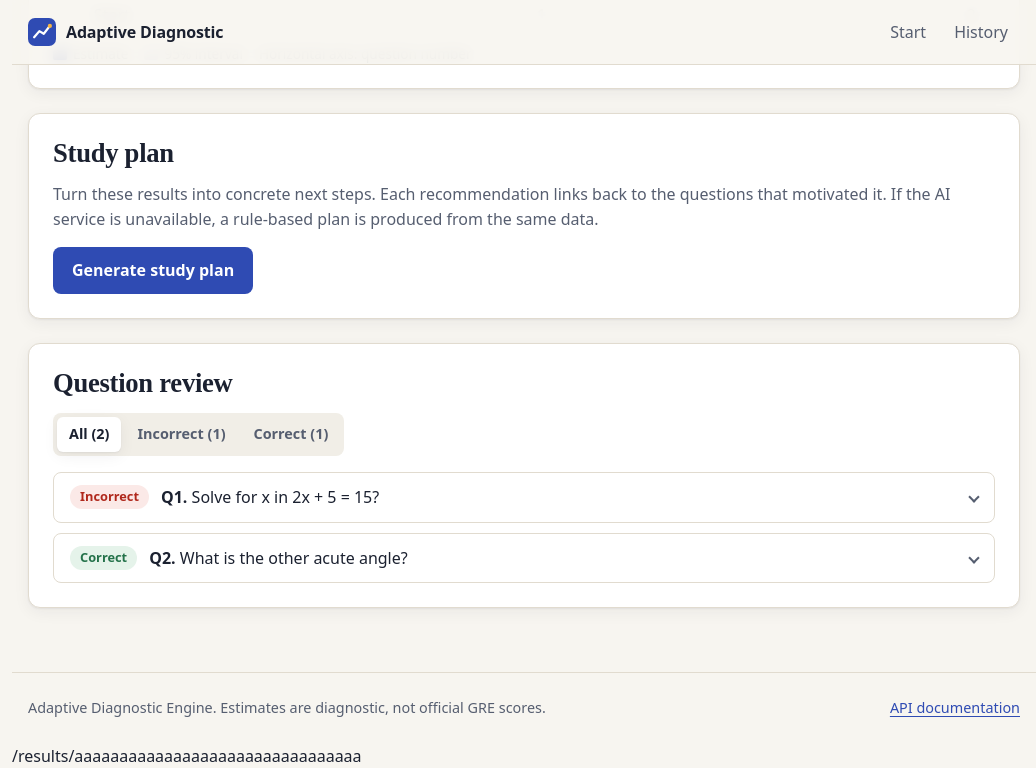
results page › filters the question review
(page scrolled)
Click the button "Correct (1)": (291, 435) [242,417,340,452]
(page scrolled)
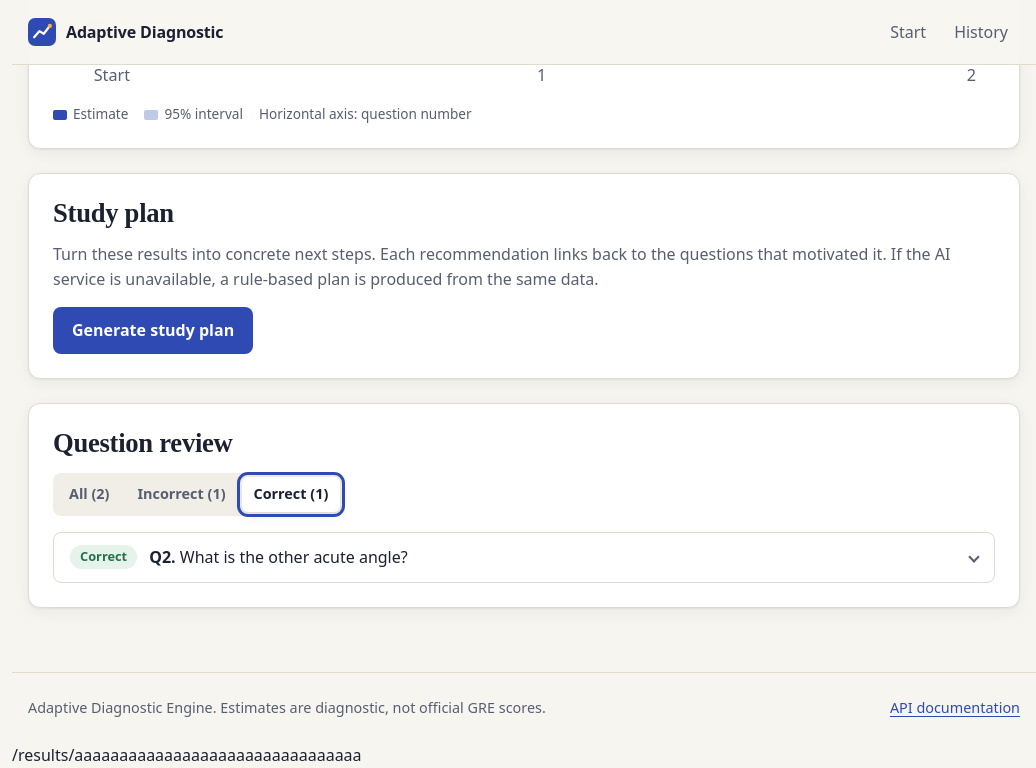
Check: the text "Q2. What is the other acute angle?" is shown, box [149,546,408,568]
Check: no headings "Solve for x" are shown
Click the button "Incorrect (1)": (182, 495) [126,477,238,512]
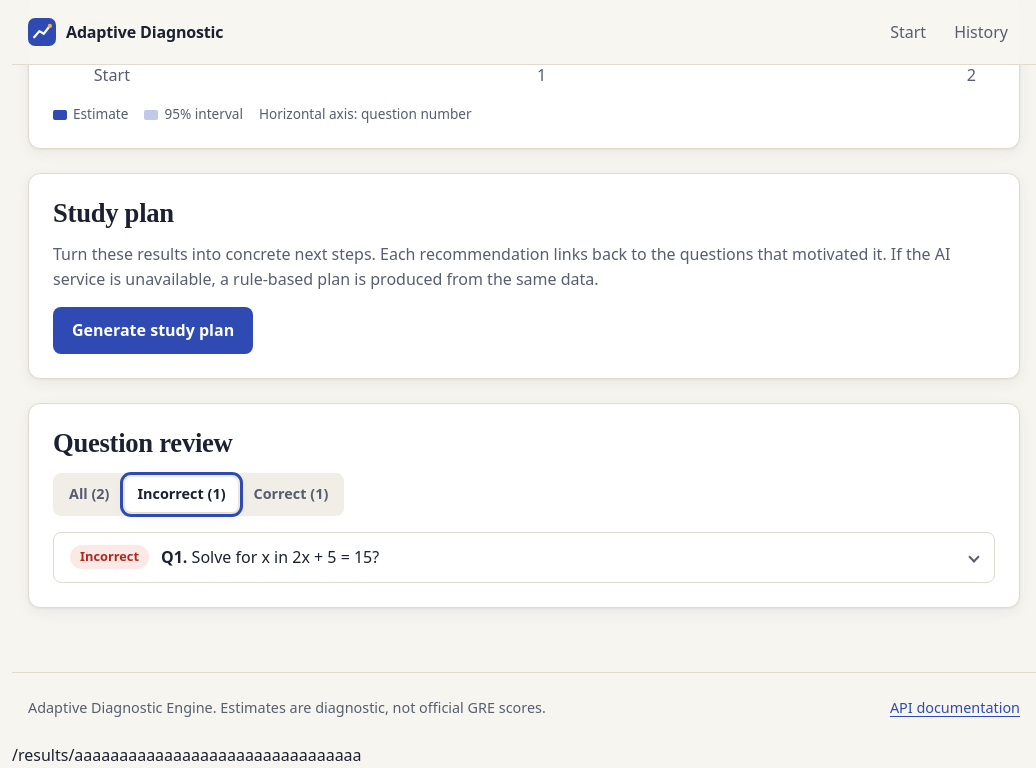
Check: the text "Q1. Solve for x in 2x + 5 = 15?" is shown, box [161,546,379,568]
Check: no headings "other acute angle" are shown
